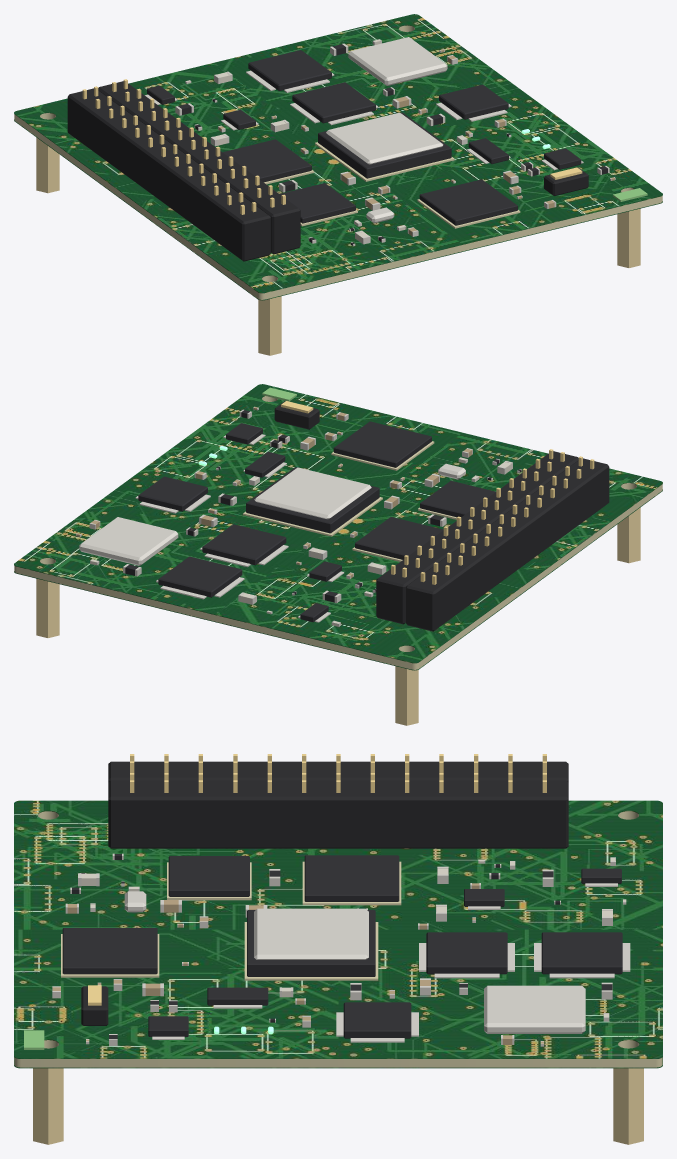
The model's file is obc_board.glb.
3 renders of one model, top to bottom at view 1: azimuth 30°, elevation 25°; view 2: azimuth 150°, elevation 25°; view 3: azimuth 270°, elevation 25°, orthographic. The views are drawn at different scales.
Parts seen in each view (by area): view 1: obc_board; view 2: obc_board; view 3: obc_board.
Part boxes in pixels (bbox=[...]): obc_board: bbox=[14, 14, 662, 355]; obc_board: bbox=[14, 384, 662, 725]; obc_board: bbox=[14, 754, 662, 1144].
Size of the model in its own units: 0.0902 by 0.0255 by 0.0959.
Materials: 11 (1 with a texture image).
